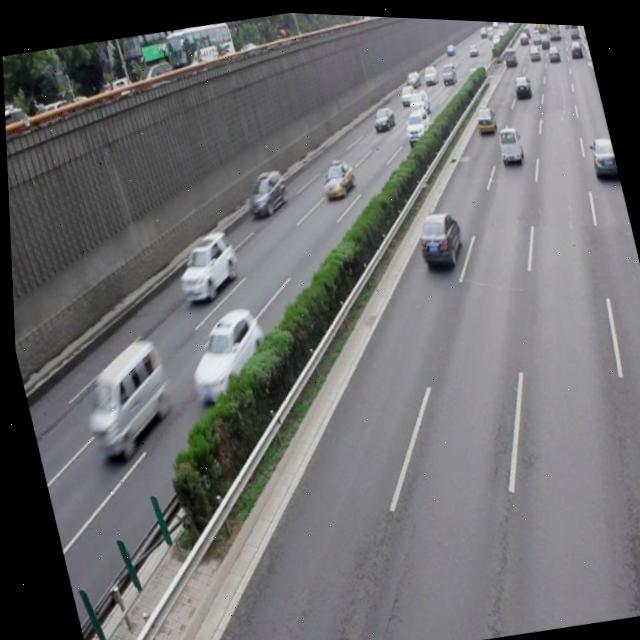car: (174, 300, 275, 409), (167, 224, 241, 305), (409, 203, 465, 268), (239, 163, 290, 217), (315, 154, 357, 199), (585, 129, 619, 178)
truck: (69, 333, 178, 463), (493, 119, 523, 161)
